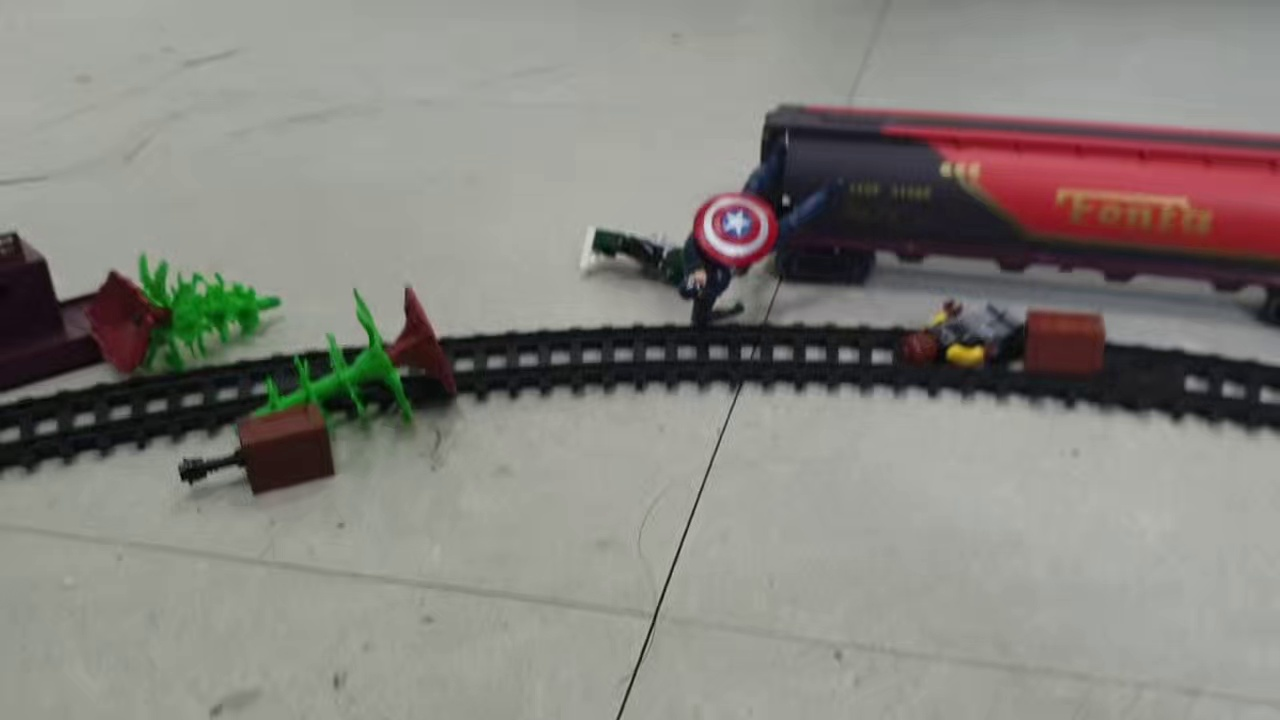box: (180, 412, 337, 498), (1025, 306, 1107, 383)
people: (687, 150, 841, 324), (893, 297, 1025, 375), (580, 220, 702, 296)
tree: (232, 282, 453, 436), (86, 253, 284, 378)
